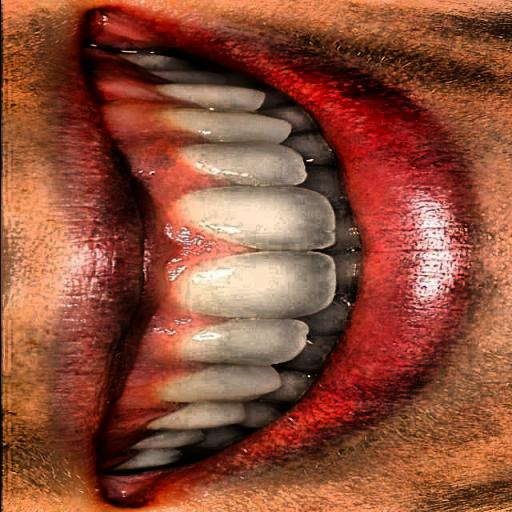Healthy: (58, 21, 416, 461)
